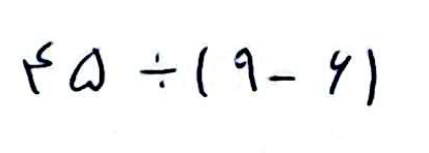character: (68, 48, 108, 93), (22, 40, 54, 95), (139, 52, 175, 89), (234, 47, 258, 92), (328, 50, 352, 94), (196, 45, 210, 98), (367, 48, 378, 106), (268, 75, 295, 85)
